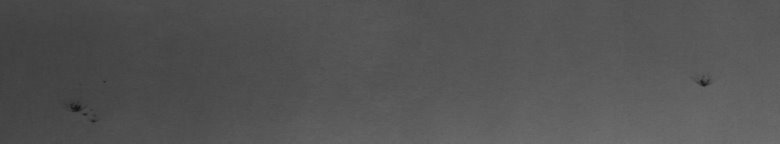fi: (690, 72, 712, 93)
